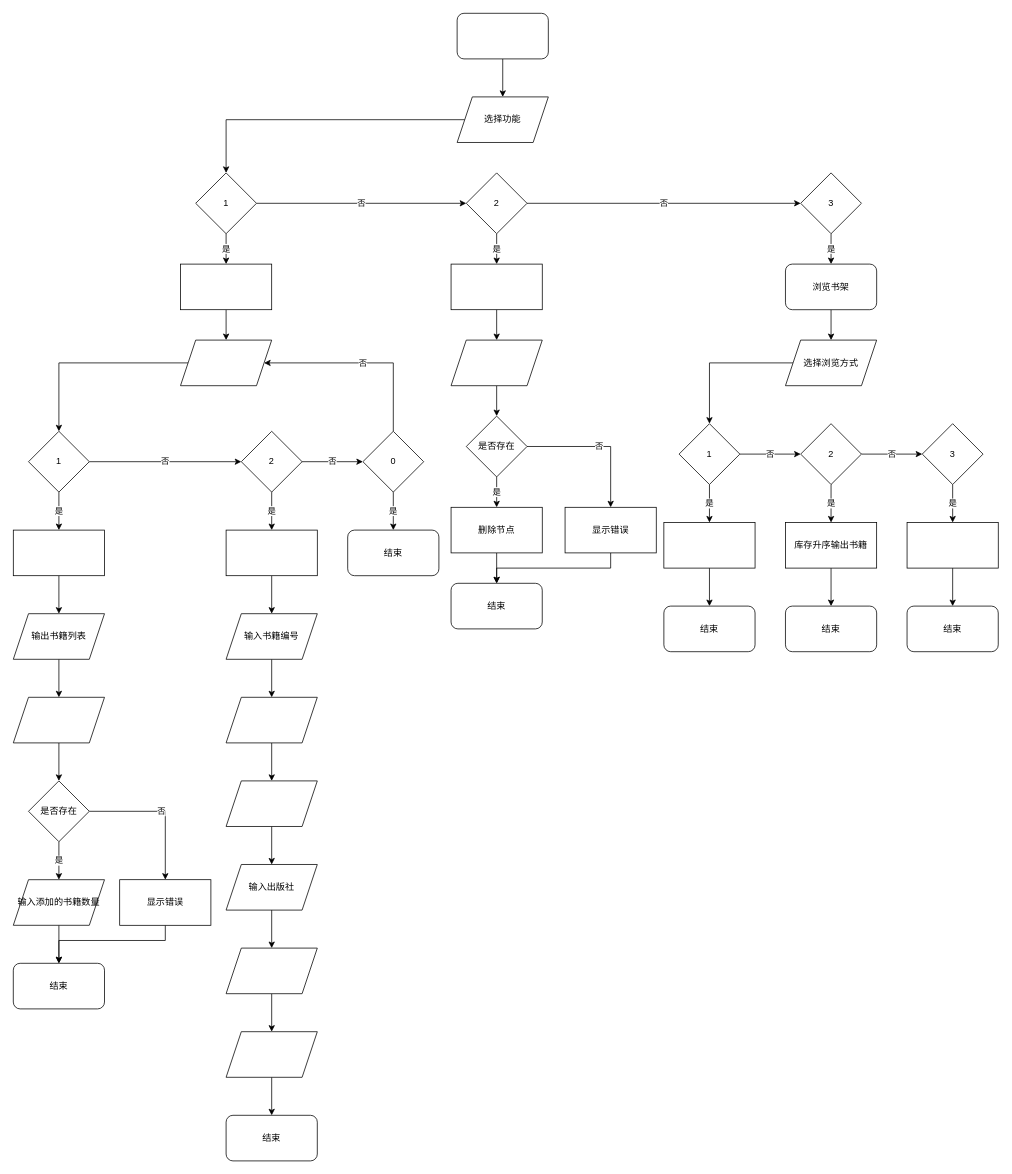
The diagram is 1012 pixels wide and 1174 high, and some of its shapes have lost their labels. Here are the shapes that lost their labels. From the top down, the centre of each, then its label:
At point (502, 36): "开始".
At point (226, 286): "上架书籍".
At point (496, 286): "下架书籍".
At point (226, 362): "选择上架的种类".
At point (496, 362): "输入需下架的书籍编号".
At point (58, 552): "添加库存".
At point (271, 552): "上架新书".
At point (709, 545): "编号升序输出书籍".
At point (952, 545): "价格升序输出书籍".
At point (58, 720): "输入要增加的书籍编号".
At point (271, 720): "输入书名".
At point (271, 803): "输入作者".
At point (271, 970): "输入价格".
At point (271, 1054): "输入库存".
